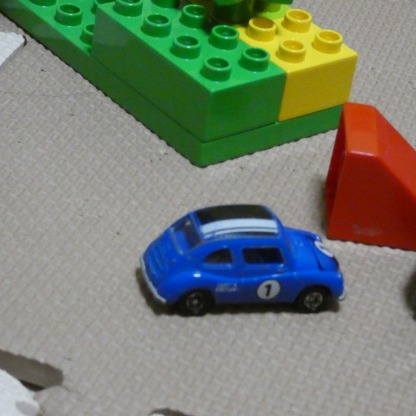car: (137, 196, 346, 316)
